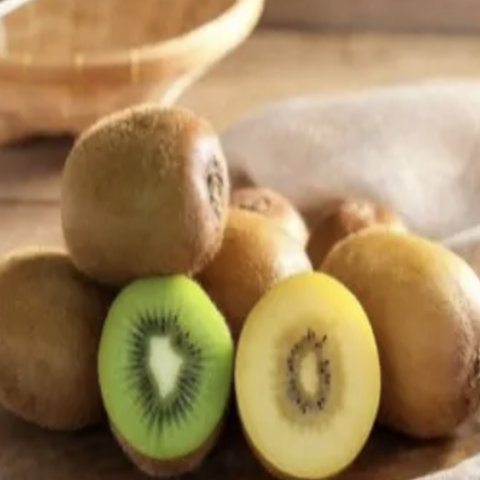kiwi: (308, 192, 480, 470), (48, 98, 243, 279)
